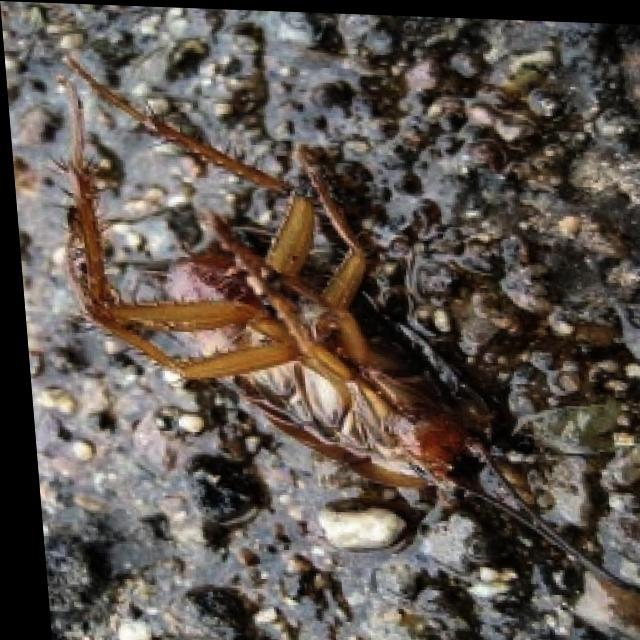cockroach: (47, 52, 635, 625)
